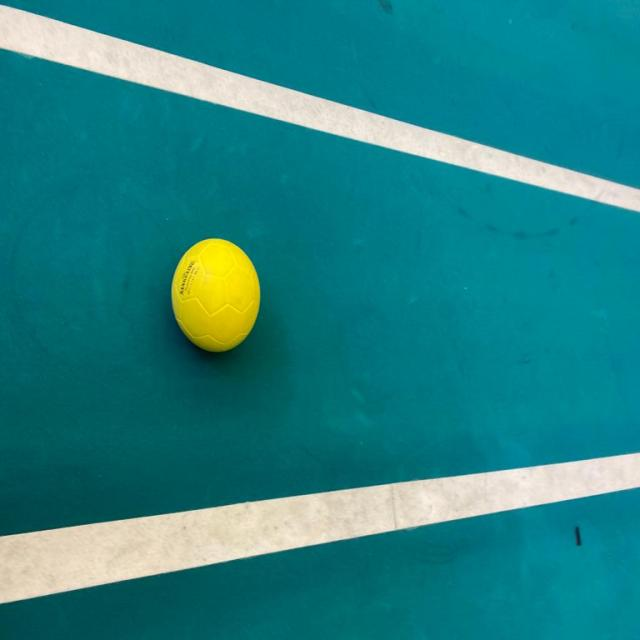ball: (161, 218, 272, 363)
